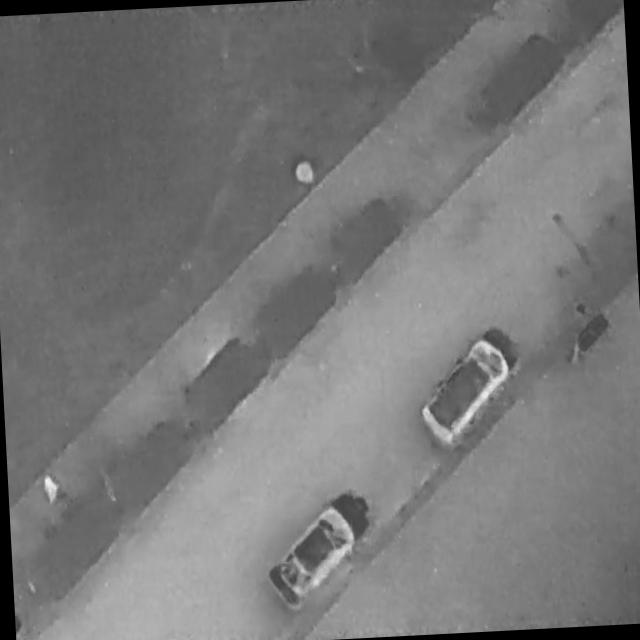person: (43, 473, 61, 506)
